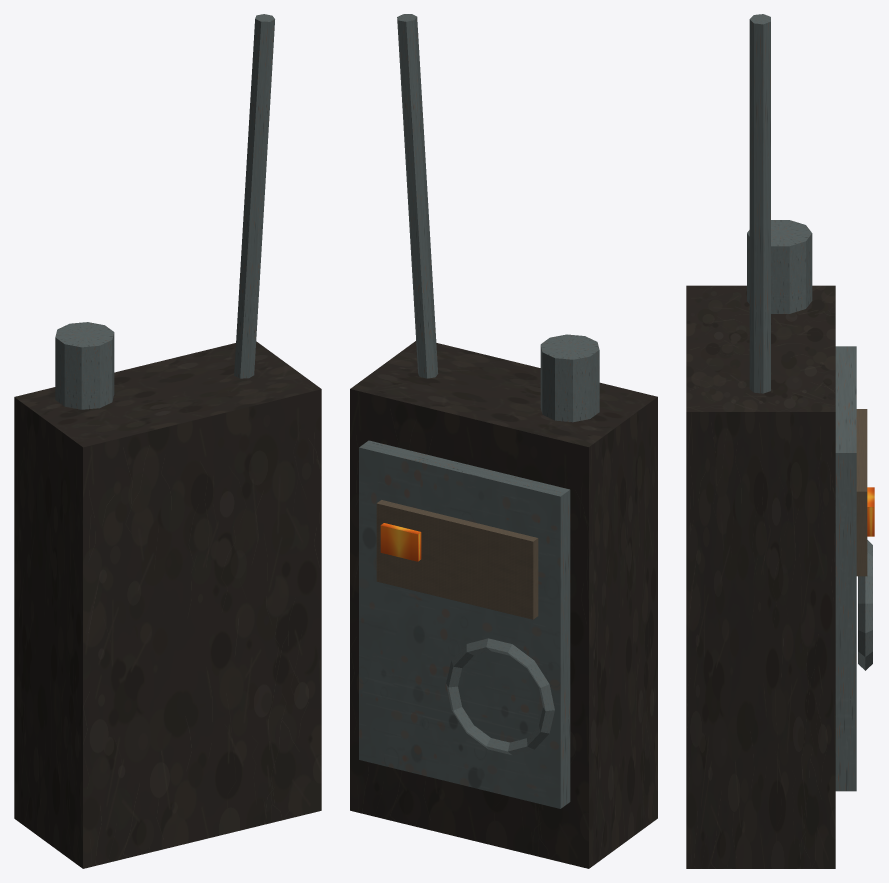
Rendered from ax-com-001_handheld_radio__active.obj.
3 views of the same model, side by side, from view 1: azimuth 30°, elevation 25°; view 2: azimuth 150°, elevation 25°; view 3: azimuth 270°, elevation 25° (orthographic). The views are drawn at different scales.
Visible parts, largest first — view 1: ax-com-001_handheld_radio__active; view 2: ax-com-001_handheld_radio__active; view 3: ax-com-001_handheld_radio__active.
Part boxes in pixels (x1,y1,x2,y2): ax-com-001_handheld_radio__active: (14, 14, 321, 868); ax-com-001_handheld_radio__active: (350, 14, 657, 868); ax-com-001_handheld_radio__active: (686, 14, 874, 868).
Size of the model in its own units: 0.1163 by 0.3599 by 0.0734.
4 materials, 4 textured.
